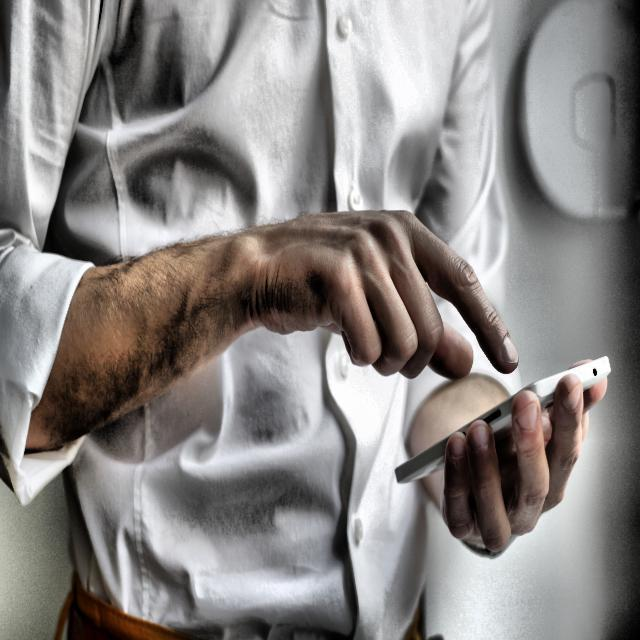Phone: (393, 352, 612, 488)
